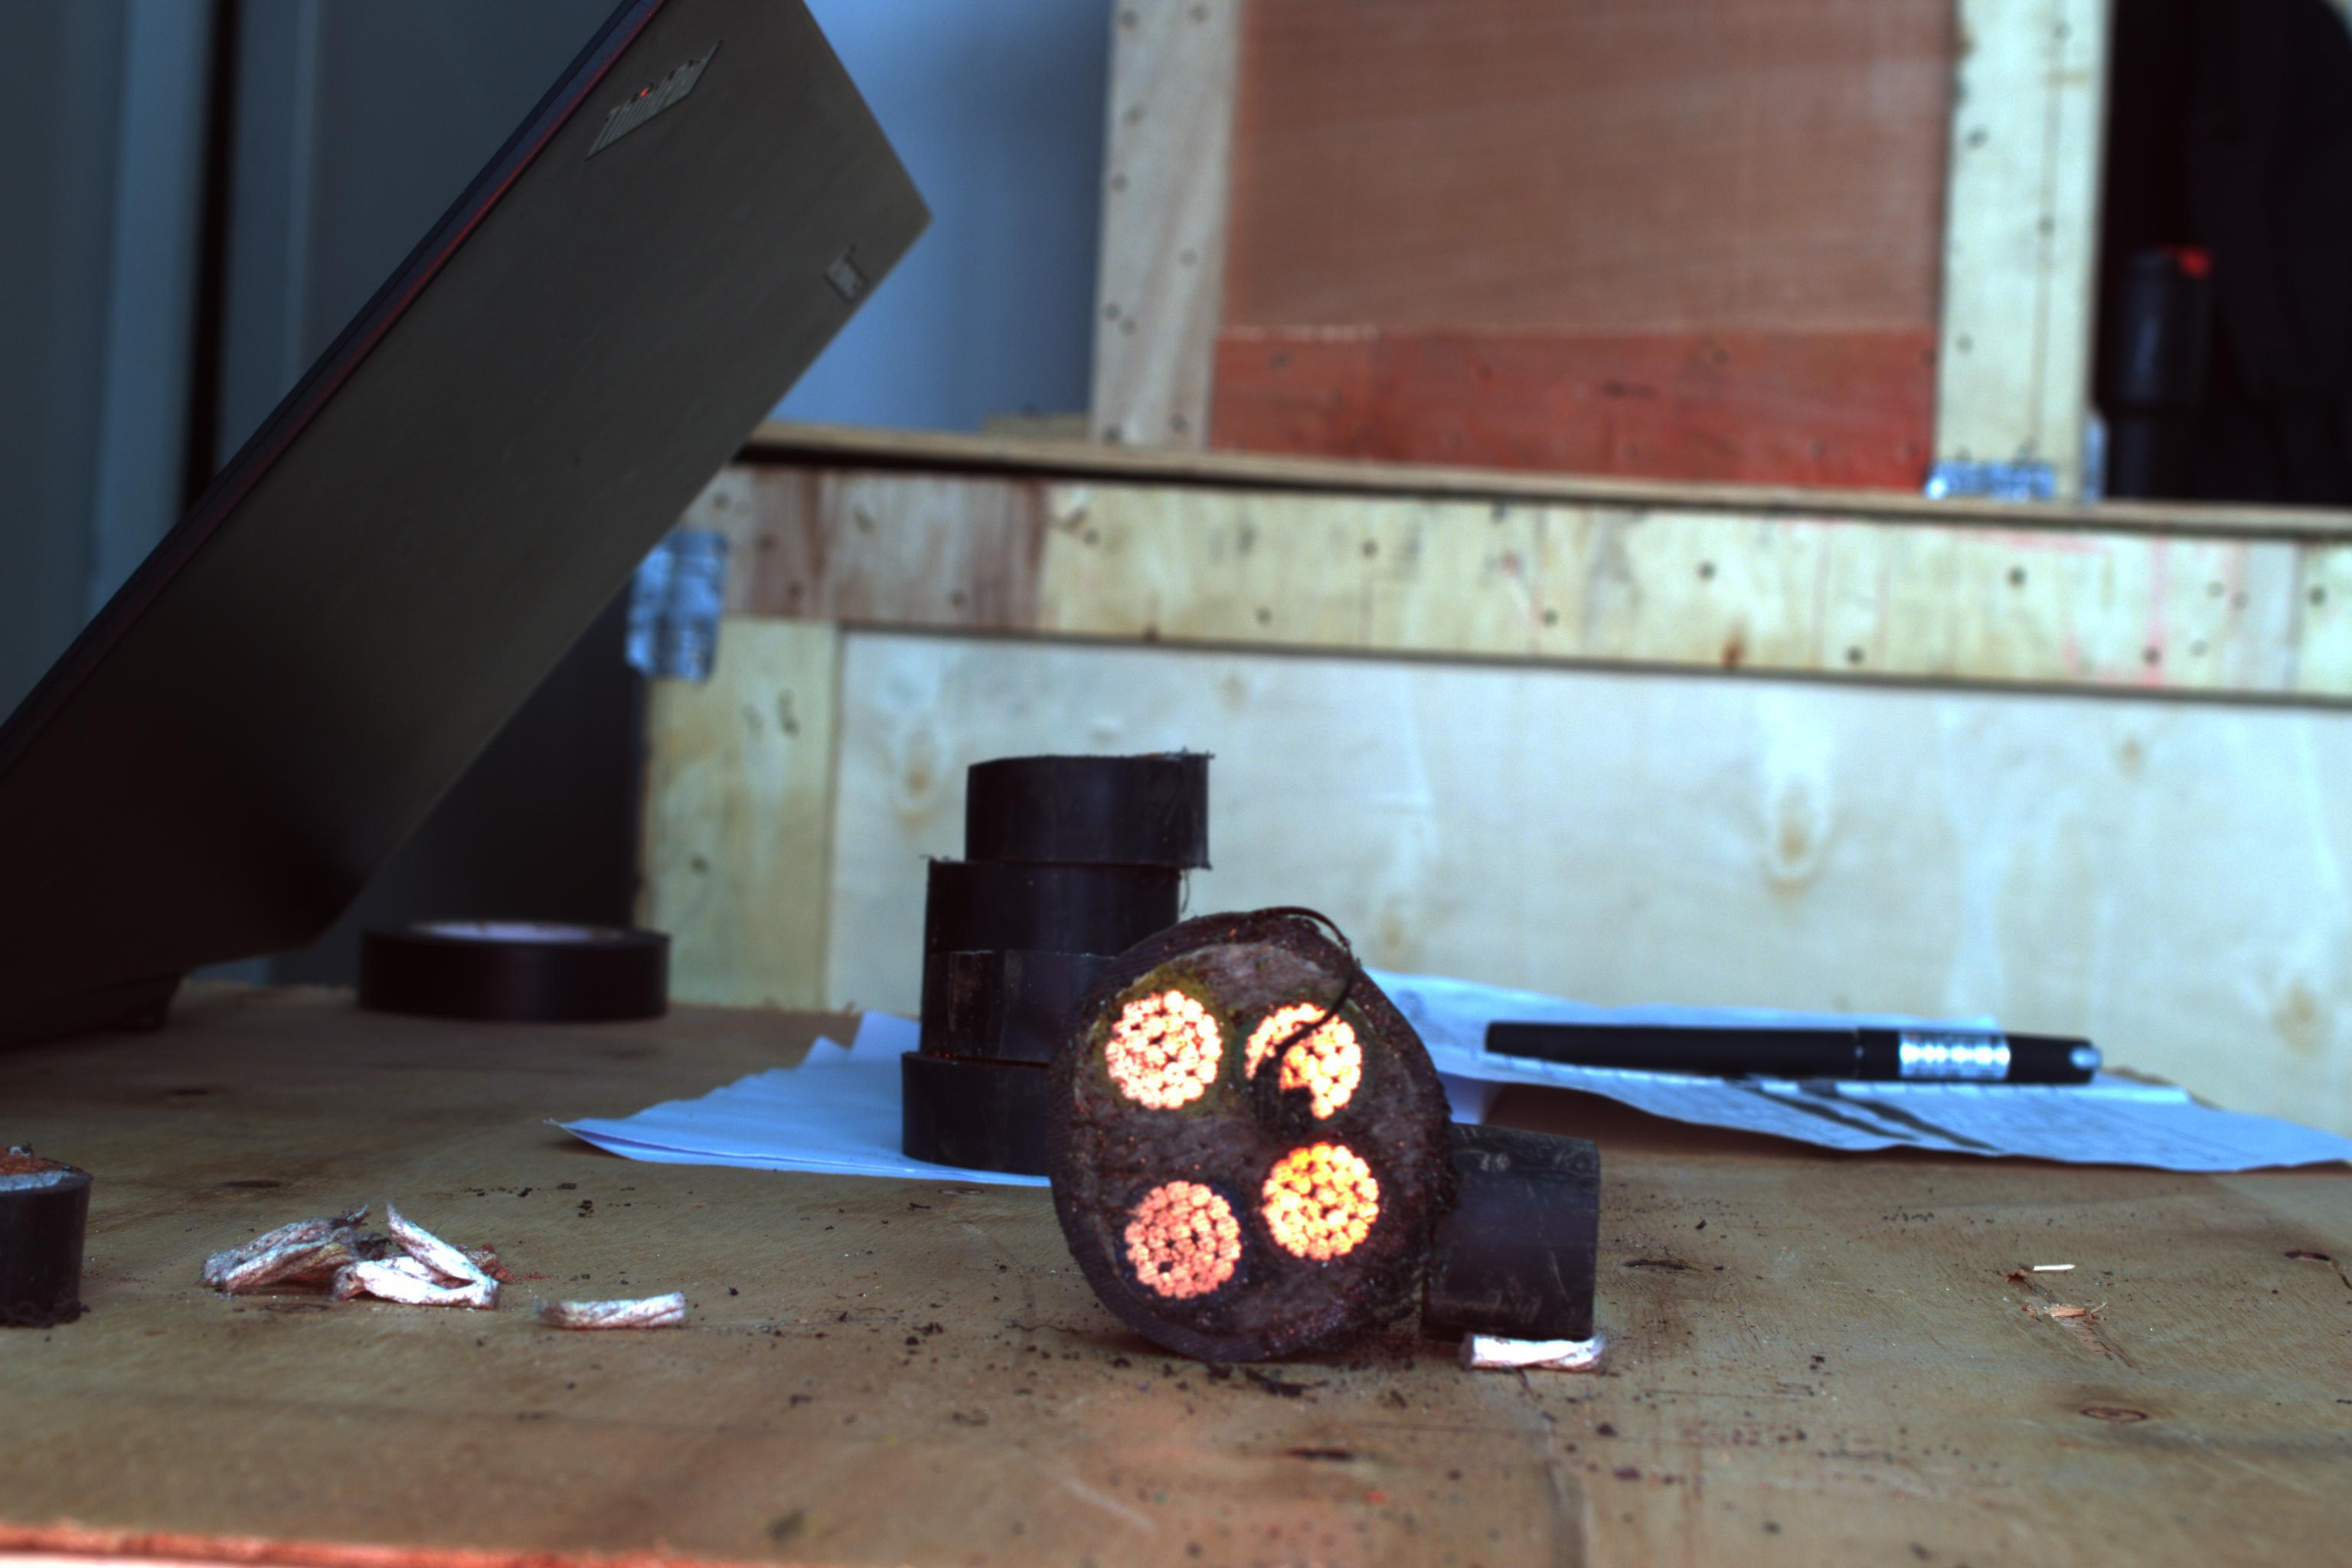YJV_0.6_1kV_4x120: (1041, 920, 1442, 1333)
